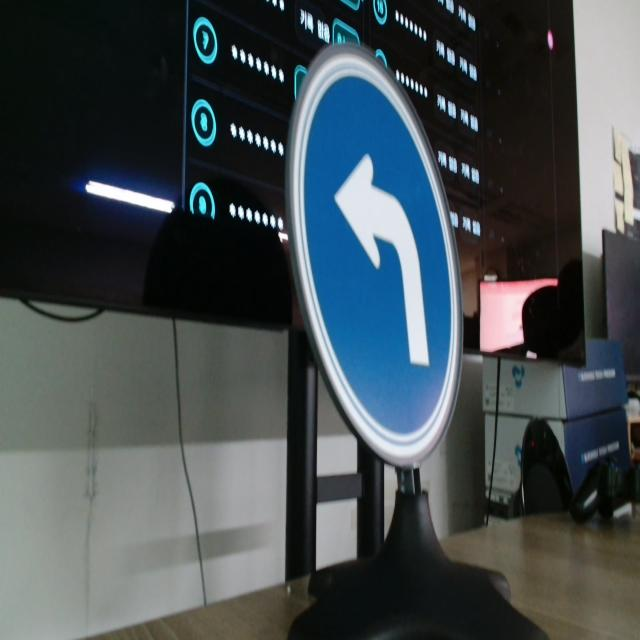left_direction: (283, 42, 467, 466)
